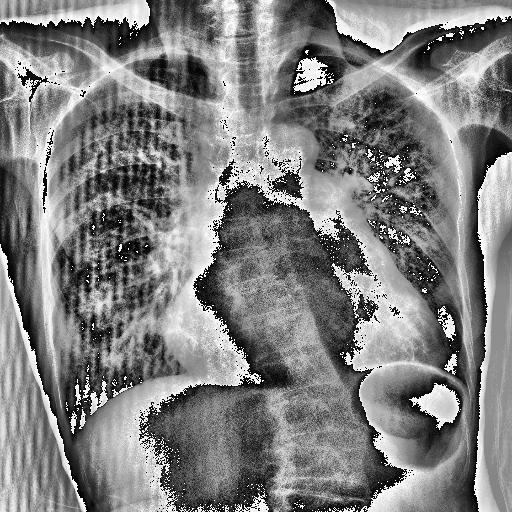0- Aortic enlargement: (192, 120, 318, 204)
3- Cardiomegaly: (153, 206, 455, 378), (162, 239, 450, 386), (156, 258, 456, 394)
5- ILD: (45, 60, 184, 382), (342, 72, 452, 257)
9- Other lesion: (190, 66, 370, 474)
